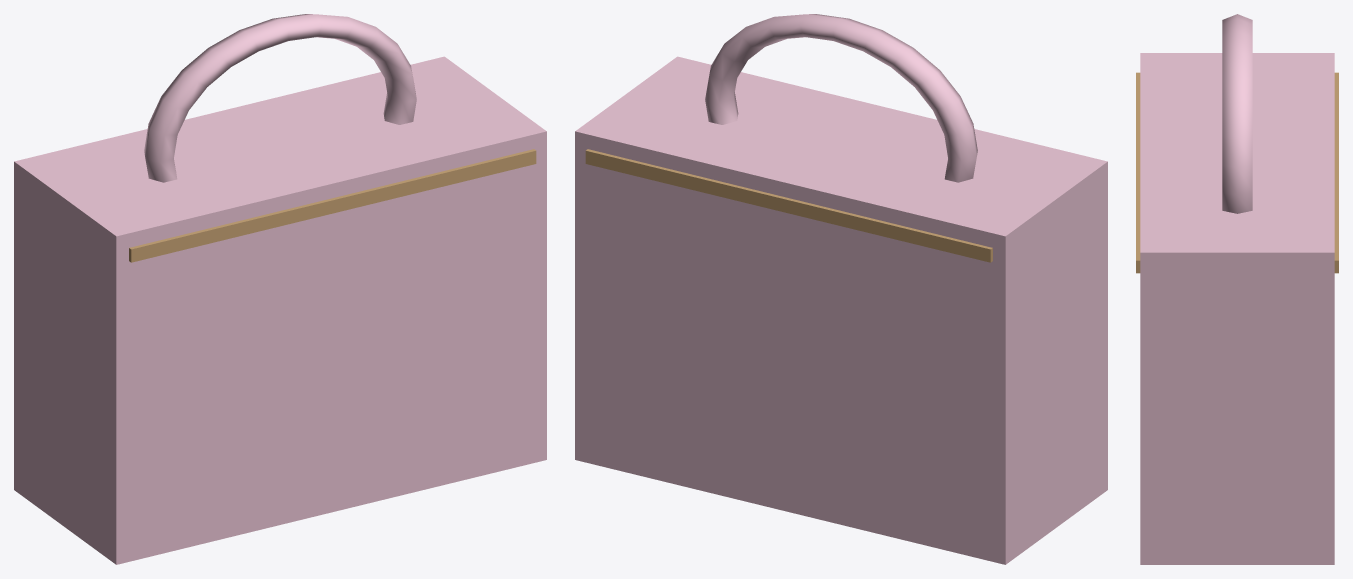
Rendered from TRD-04-02.glb.
The picture shows the model from 3 angles, left to right: view 1: azimuth 30°, elevation 25°; view 2: azimuth 150°, elevation 25°; view 3: azimuth 270°, elevation 25°; orthographic projection. The views are drawn at different scales.
Visible parts, largest first — view 1: TRD-04-02; view 2: TRD-04-02; view 3: TRD-04-02.
Boxes of the visible parts, <box> form: TRD-04-02: <box>14,14,546,564</box>; TRD-04-02: <box>575,14,1107,564</box>; TRD-04-02: <box>1136,14,1338,564</box>.
Bounding box in the file's own units: 0.85 × 0.8602 × 0.365.
